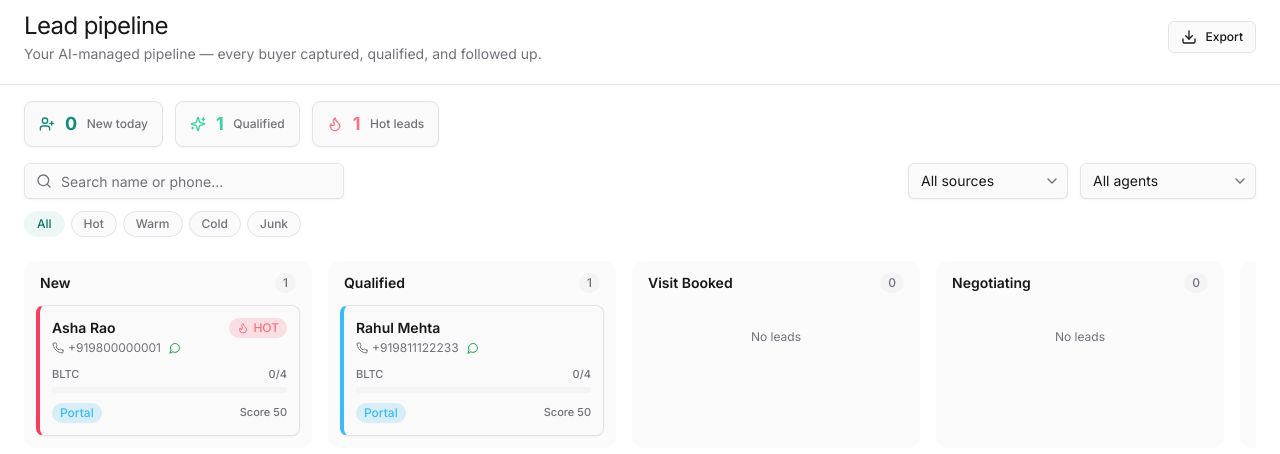
Test: LeadsPage filtering › filters by search on name
This screenshot has width=1280, height=454.
Type "asha" into the search field named "Search leads" at coordinates (184, 181), box [24, 163, 344, 199]
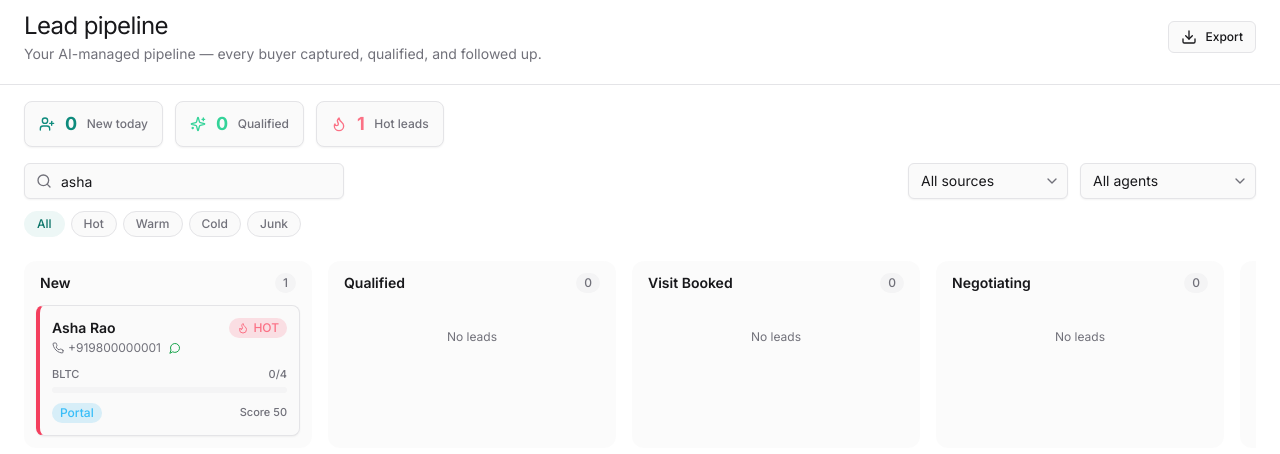
Expected: the text "Asha Rao" is shown, [52, 319, 116, 336]
Result: the link "Rahul Mehta" is gone
